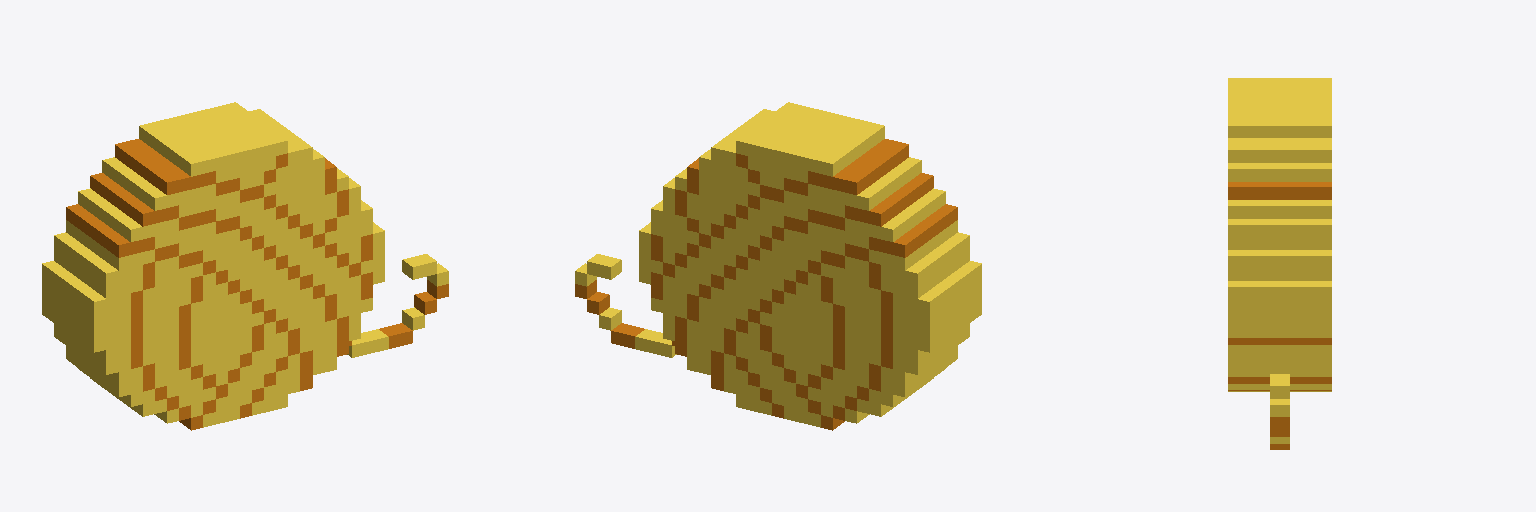
The model's file is YellowYarn.obj.
The picture shows the model from 3 angles: view 1: azimuth 30°, elevation 25°; view 2: azimuth 150°, elevation 25°; view 3: azimuth 270°, elevation 25°; orthographic projection.
Size of the model in its own units: 31 by 21 by 7.5.